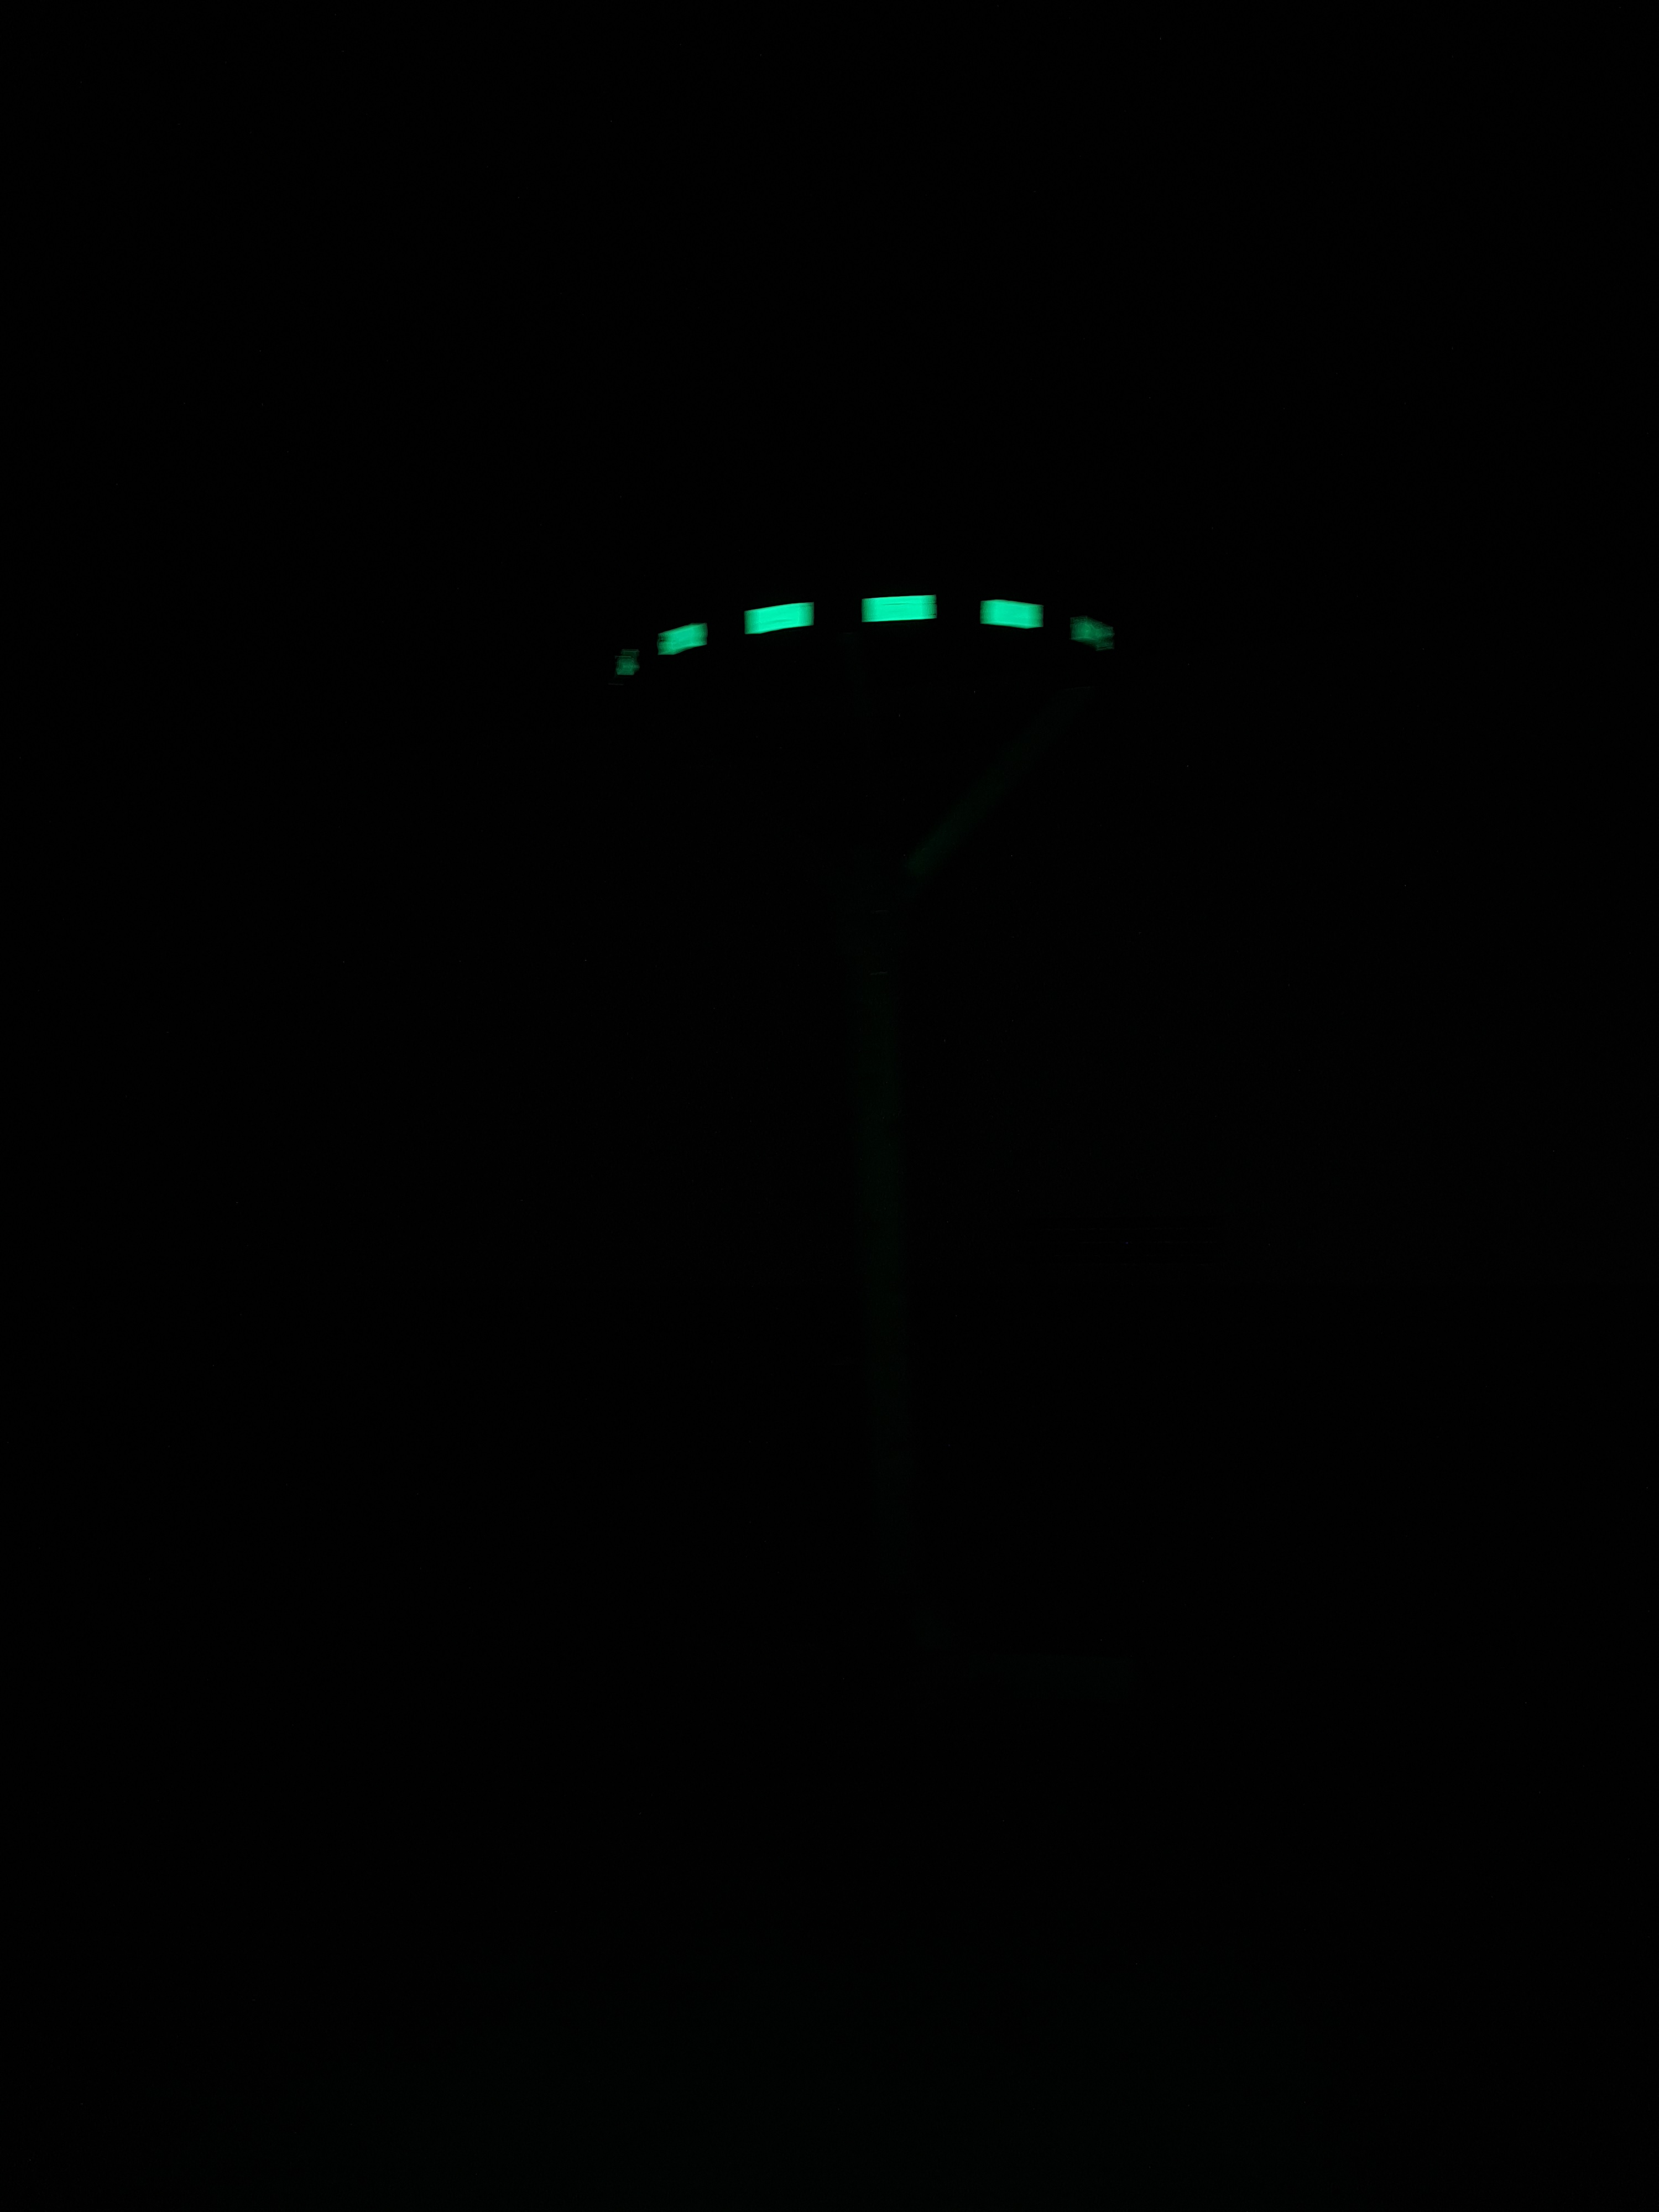hoop: (596, 592, 1127, 681)
